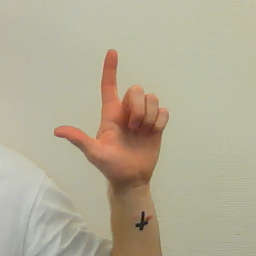L: (50, 48, 171, 185)
